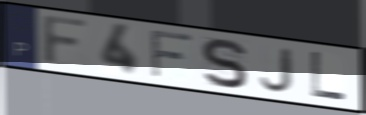4: (97, 21, 142, 79)
F: (40, 13, 93, 69), (148, 27, 195, 80)
J: (258, 46, 296, 94)
L: (309, 50, 349, 103)
S: (198, 36, 250, 90)
